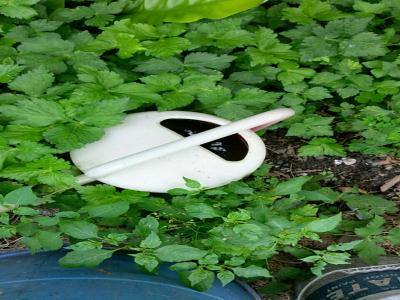bowl: (63, 108, 274, 198)
